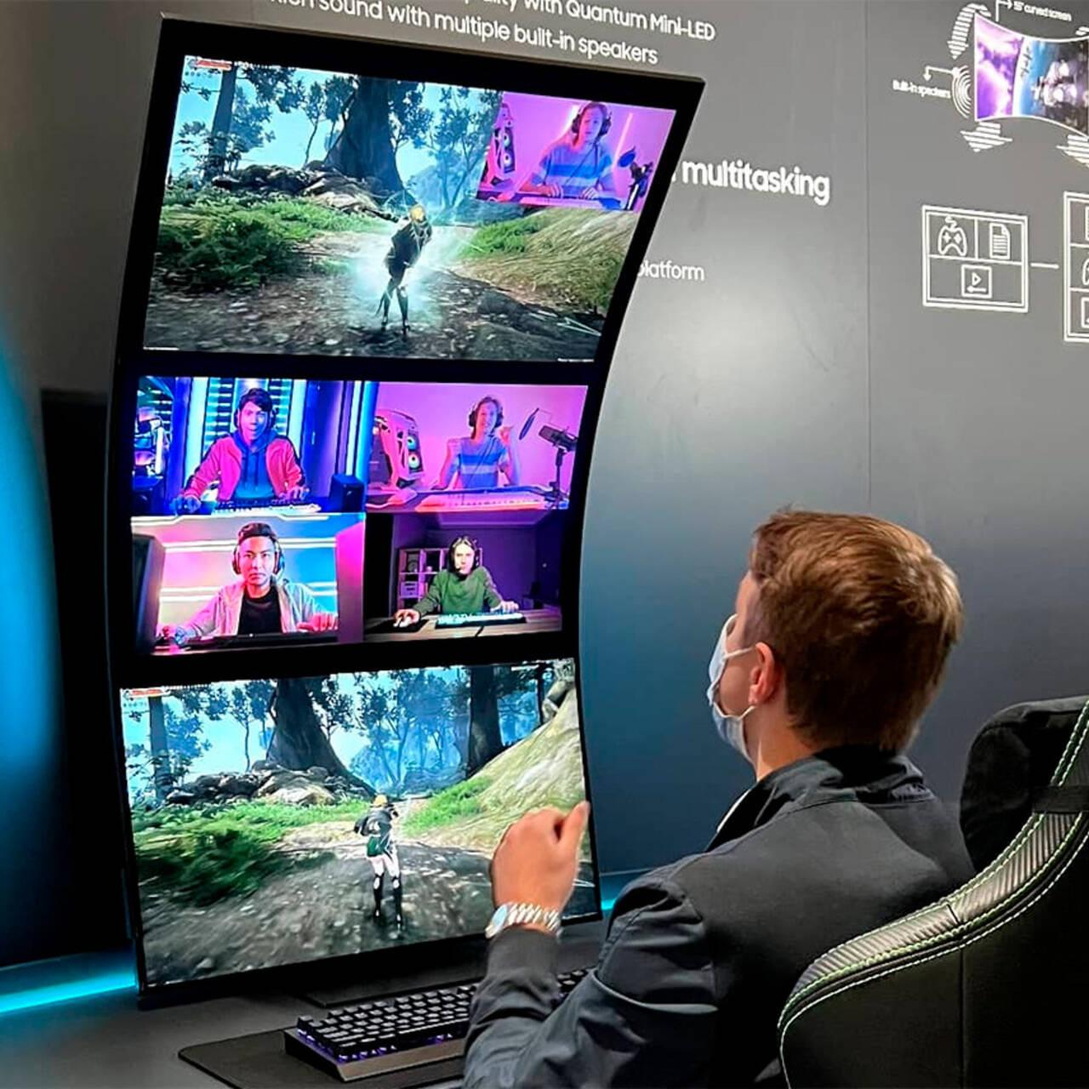monitor: (115, 9, 716, 373), (75, 662, 643, 1019), (80, 356, 618, 660)
